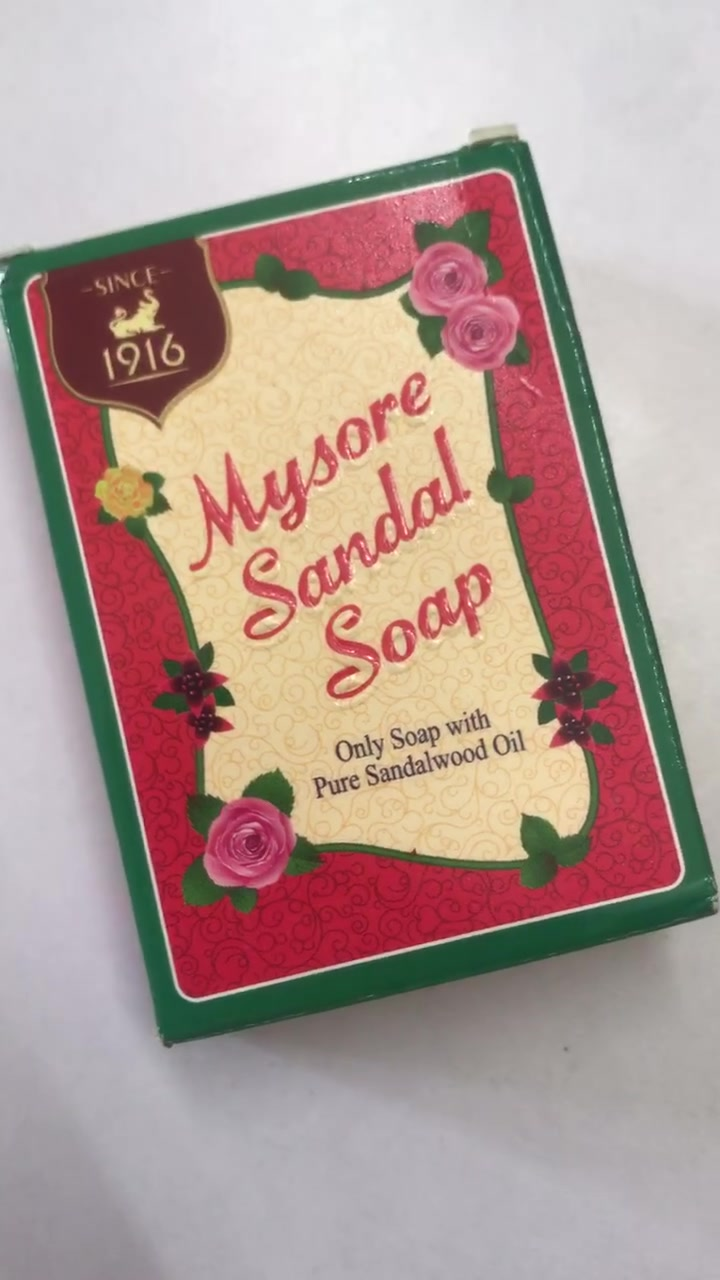mysore sandal soap: (33, 167, 706, 1031)
